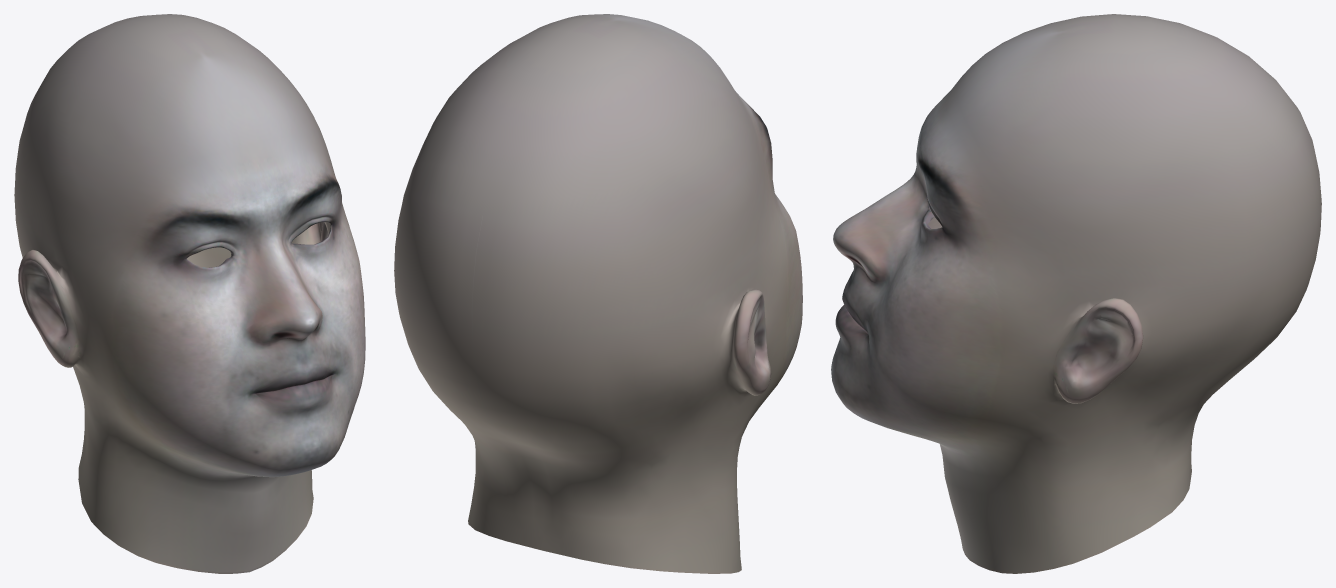
3 renders of one model, left to right at view 1: azimuth 30°, elevation 25°; view 2: azimuth 150°, elevation 25°; view 3: azimuth 270°, elevation 25°, orthographic. The views are drawn at different scales.
Parts seen in each view (by area): view 1: FaceGen; view 2: FaceGen; view 3: FaceGen.
Boxes of the visible parts, <box> form: FaceGen: <box>14,14,365,573</box>; FaceGen: <box>394,14,802,573</box>; FaceGen: <box>831,14,1321,573</box>.
Size of the model in its own units: 181 by 282 by 240.
1 material, 1 textured.
